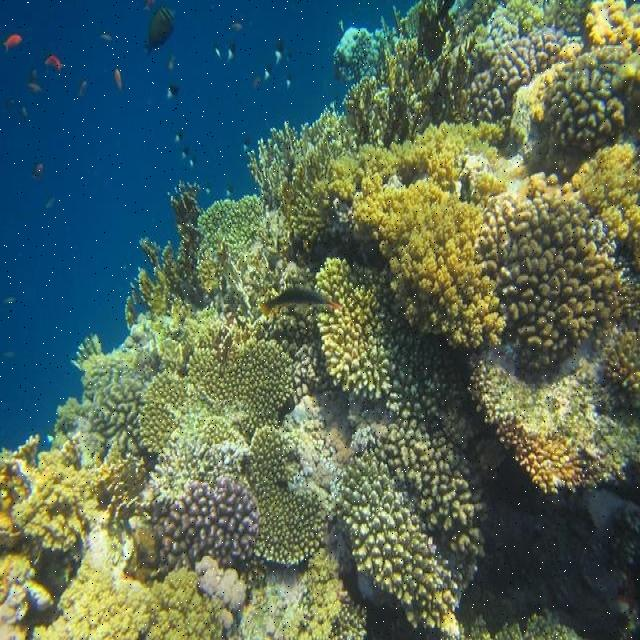fish: (256, 287, 344, 318), (141, 7, 177, 56), (43, 55, 66, 74), (1, 34, 23, 52), (113, 68, 123, 90)
reefs: (0, 0, 639, 640)
